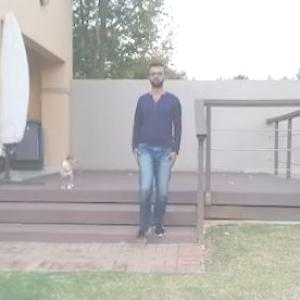follow: (139, 59, 185, 241)
